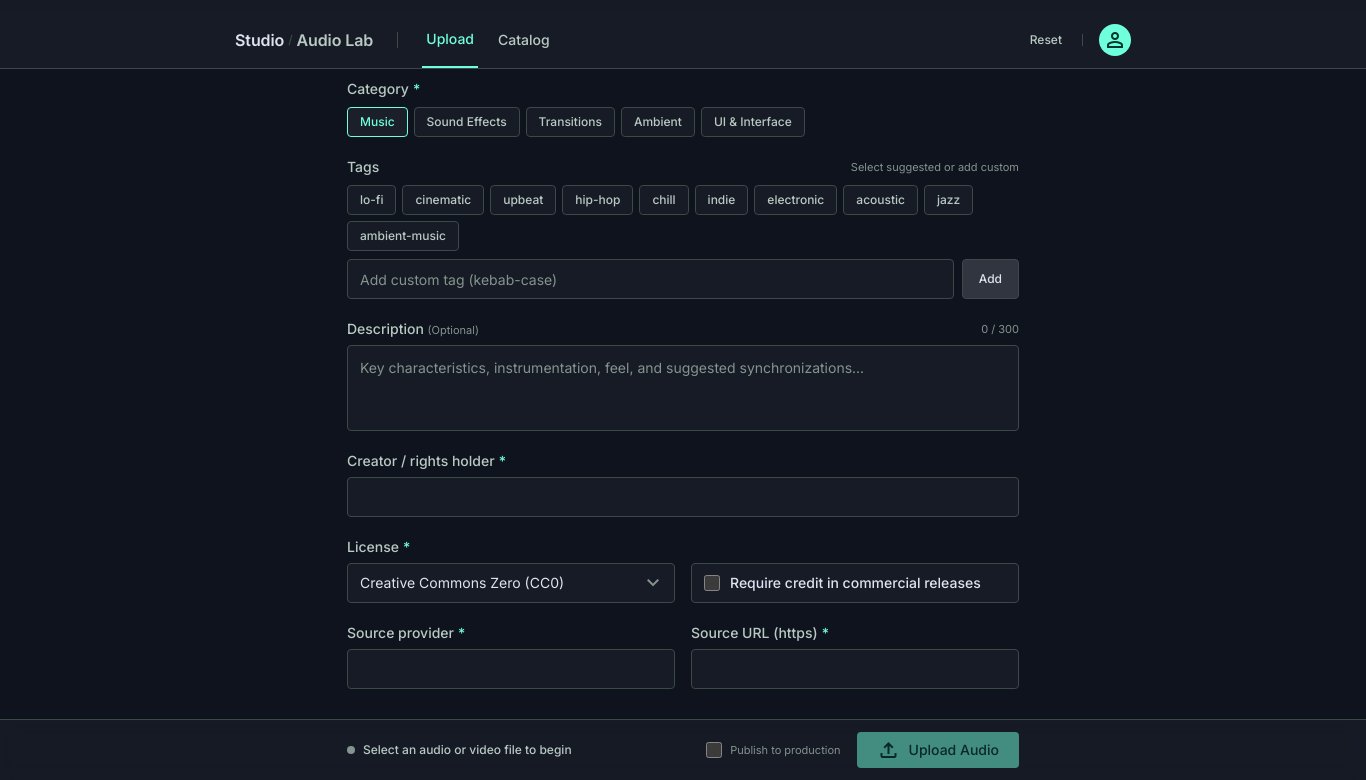
Scenario: Audio Lab — Exact UI & Admin Protection Flow › updates character counter as description is typed
(page scrolled)
Expected: the text with id "char-counter" reads "0 / 300", left=981, top=322, right=1019, bottom=336
Replace the text in the text box with placeholder "Key characteristics, instrumentation, feel" with "Short punchy cinematic riser." at [683, 388], box left=347, top=345, right=1019, bottom=431
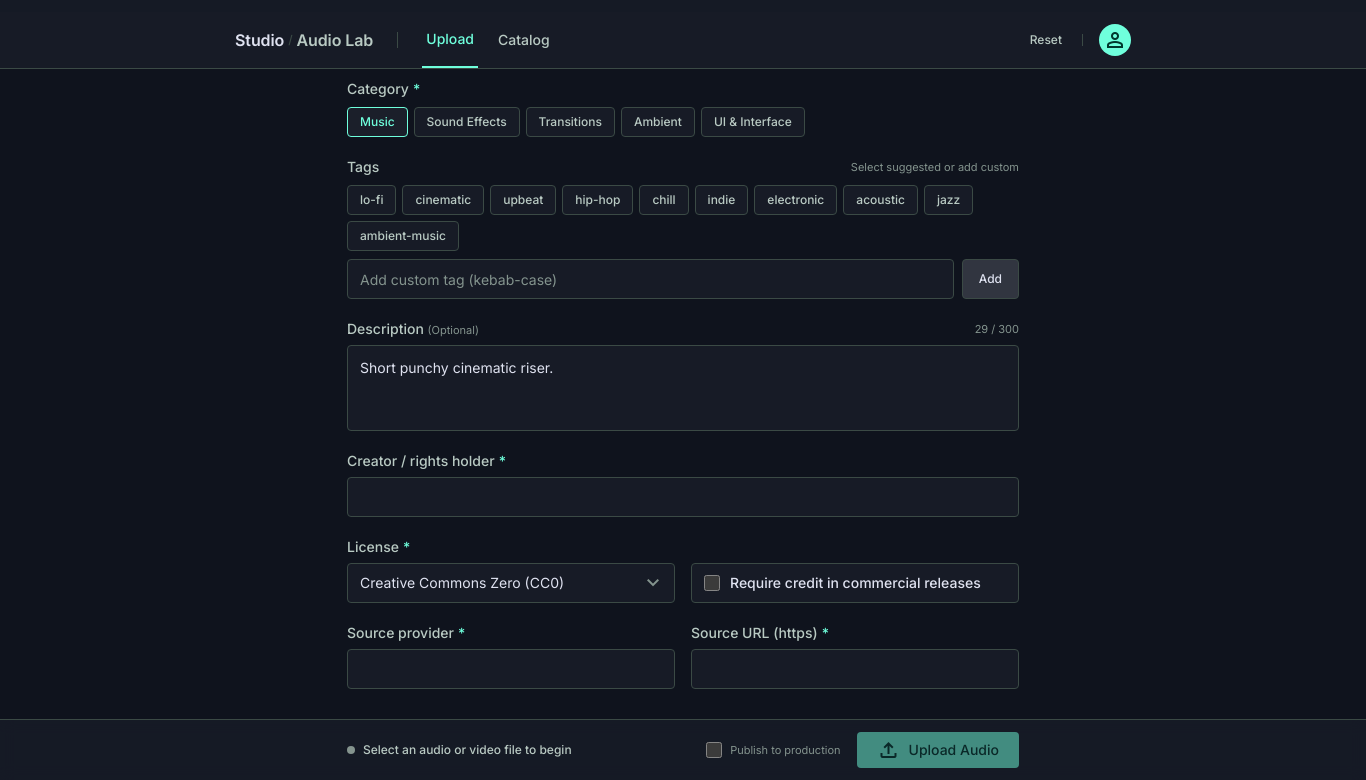
Now the text with id "char-counter" reads "29 / 300", box left=975, top=322, right=1019, bottom=336
